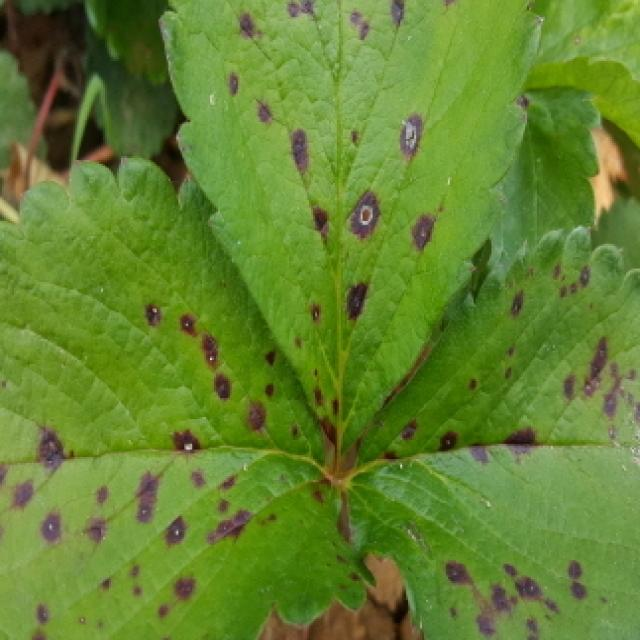Leaf Spot: (0, 153, 377, 640), (158, 0, 544, 455), (340, 226, 640, 640), (591, 196, 640, 267)
